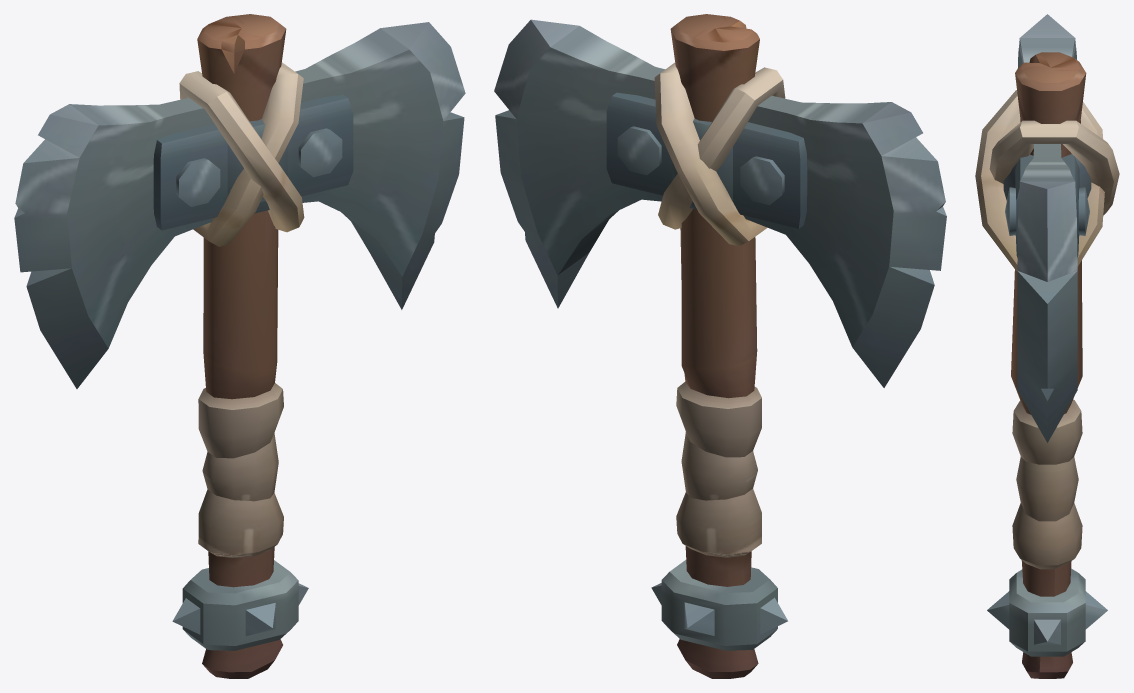
Rendered from wpn_axe_A.glb.
The picture shows the model from 3 angles, left to right: view 1: azimuth 30°, elevation 25°; view 2: azimuth 150°, elevation 25°; view 3: azimuth 270°, elevation 25°; orthographic projection. The views are drawn at different scales.
Parts seen in each view (by area): view 1: axe_A; view 2: axe_A; view 3: axe_A.
Boxes of the visible parts, x1,y1,x2,y2 form: axe_A: (14,14,465,678); axe_A: (494,14,946,678); axe_A: (975,14,1119,678).
Size of the model in its own units: 0.8558 by 1.16 by 0.2504.
Materials: 1 (1 with a texture image).
